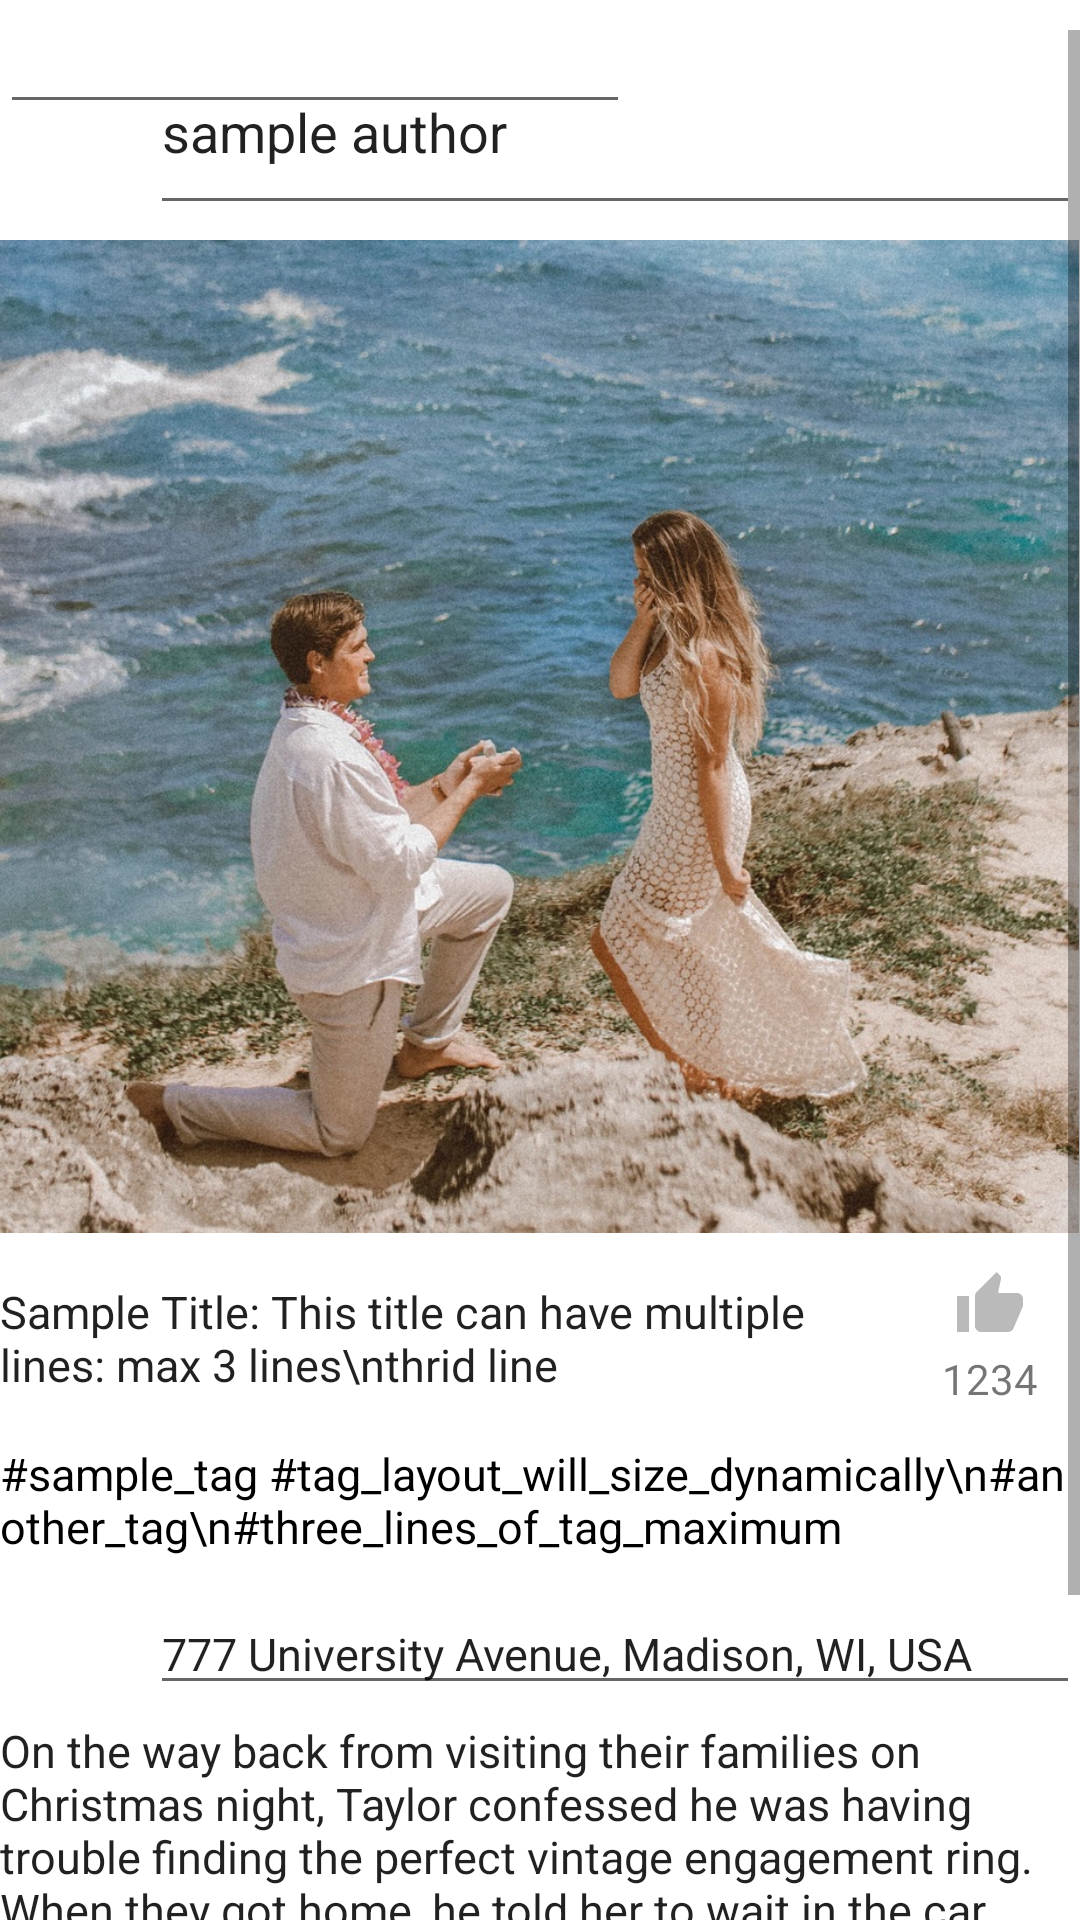

Point at icon controls on the screen. Image size 1080×1920, points as (x=x, y=y).
thumb up: (x=990, y=1302)
